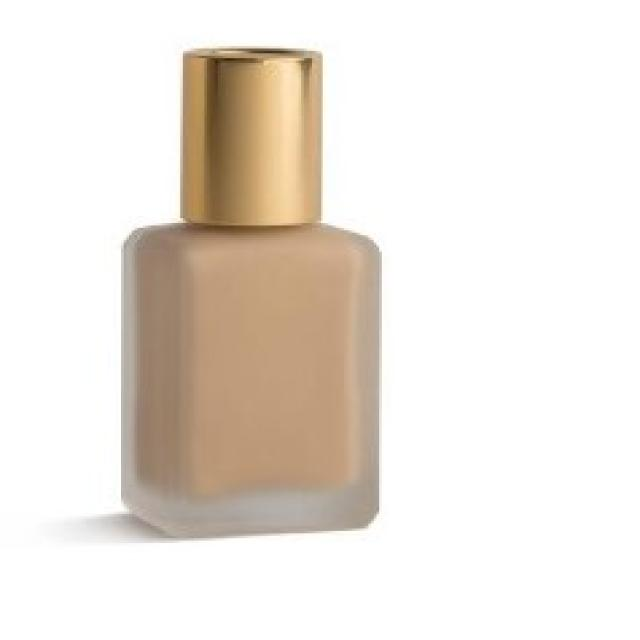electronic: (120, 44, 384, 538)
